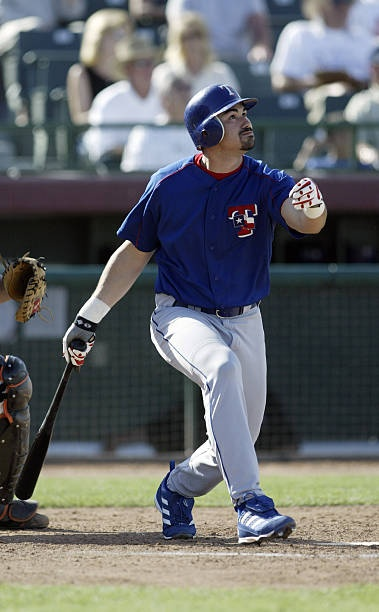bita: (16, 336, 93, 502)
